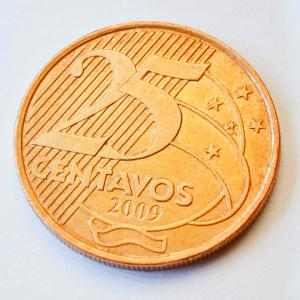25 cent: (13, 19, 281, 271)
